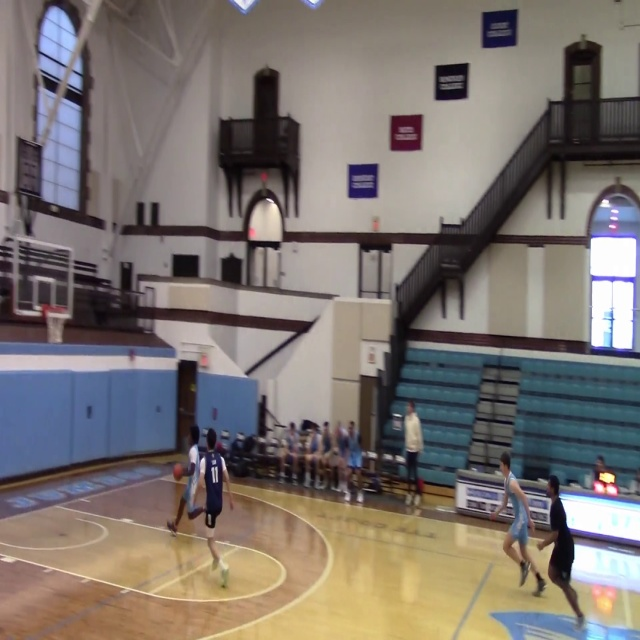Basketball: (188, 506, 205, 520), (173, 463, 183, 481)
